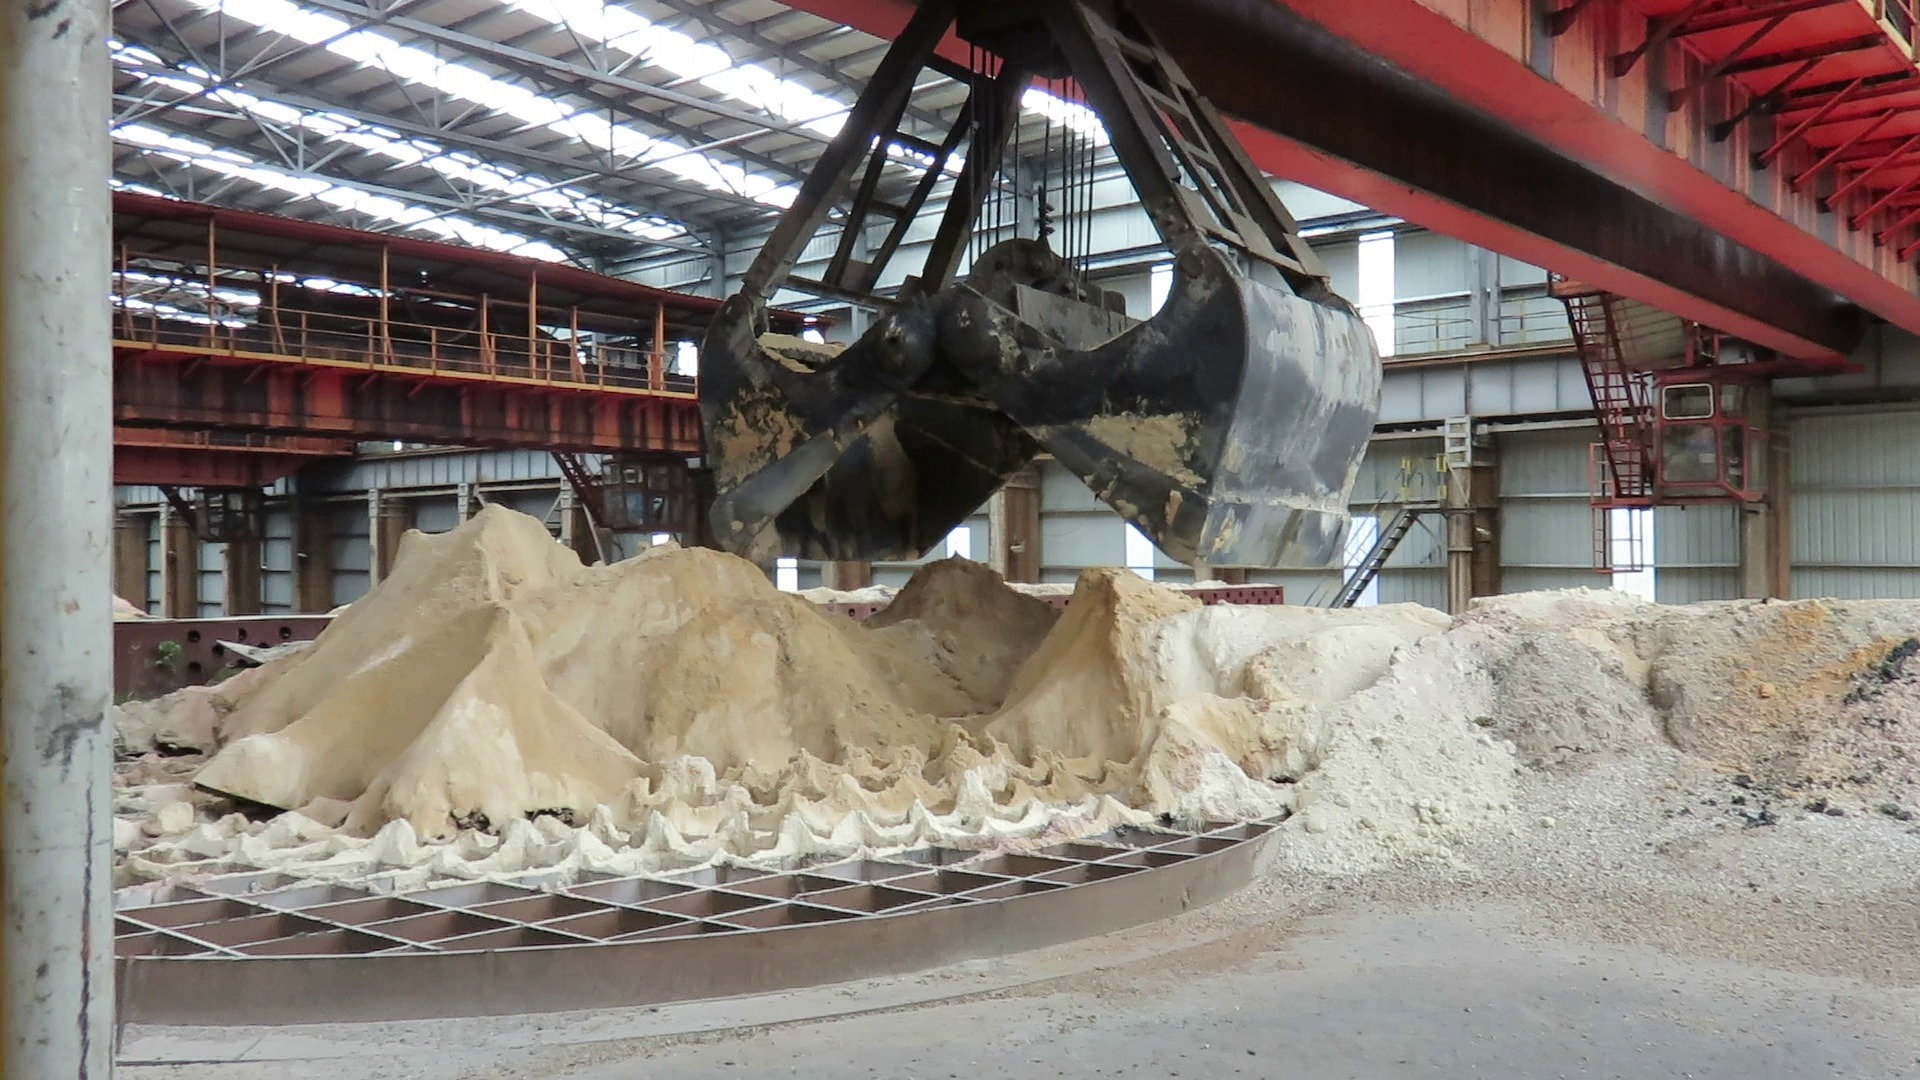grab: (686, 8, 1374, 604)
